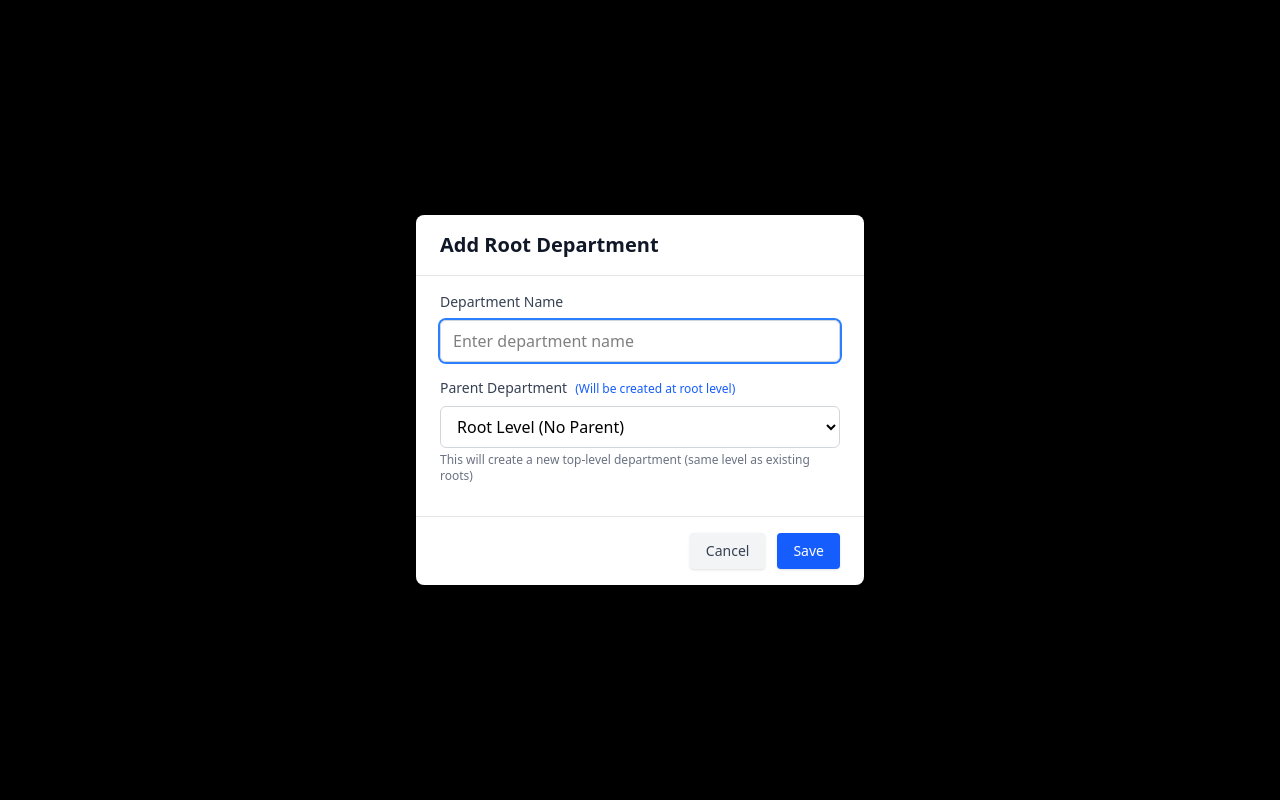
Test: DepartmentManagementModal › interactions › should show error message on submit failure
Type "New Dept" into the field labelled "Department Name" at (640, 341), box 440,320 -> 840,362
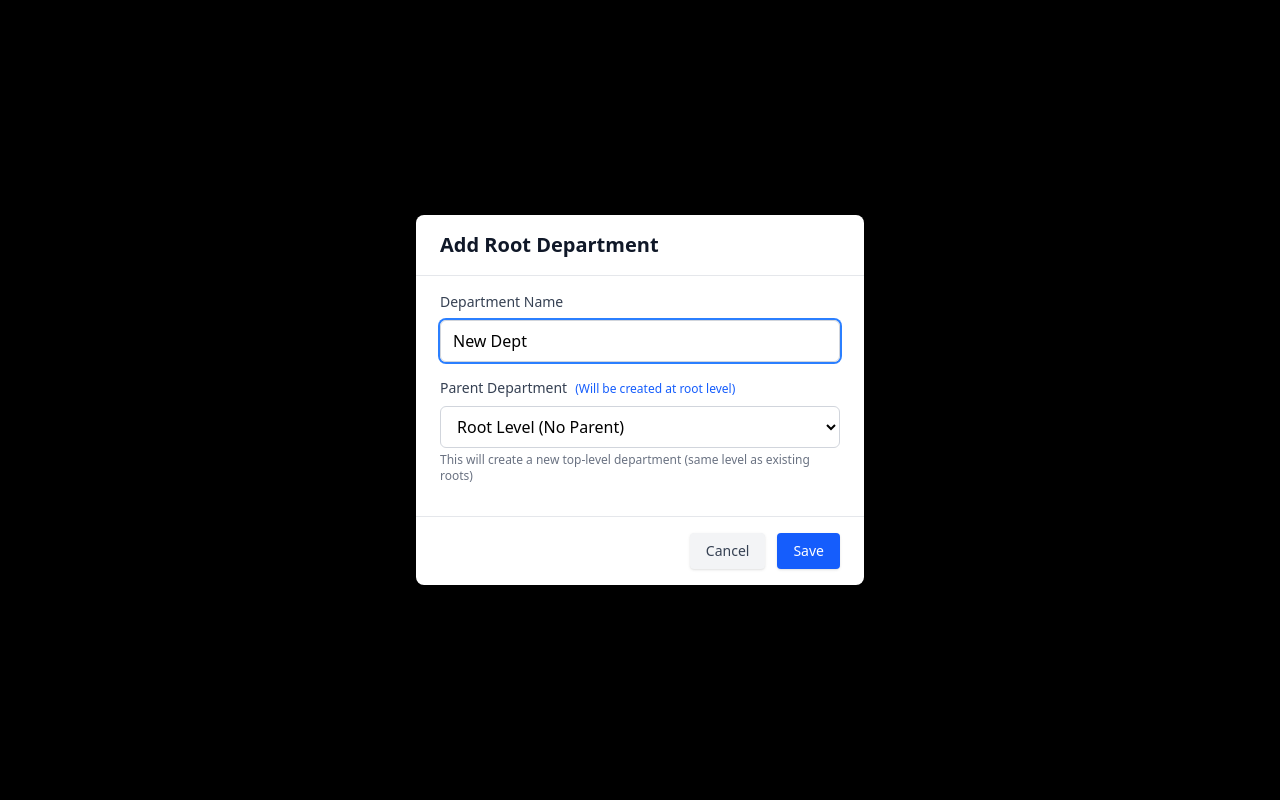
Click the button "Save" at (809, 551), box 777,533 -> 840,569
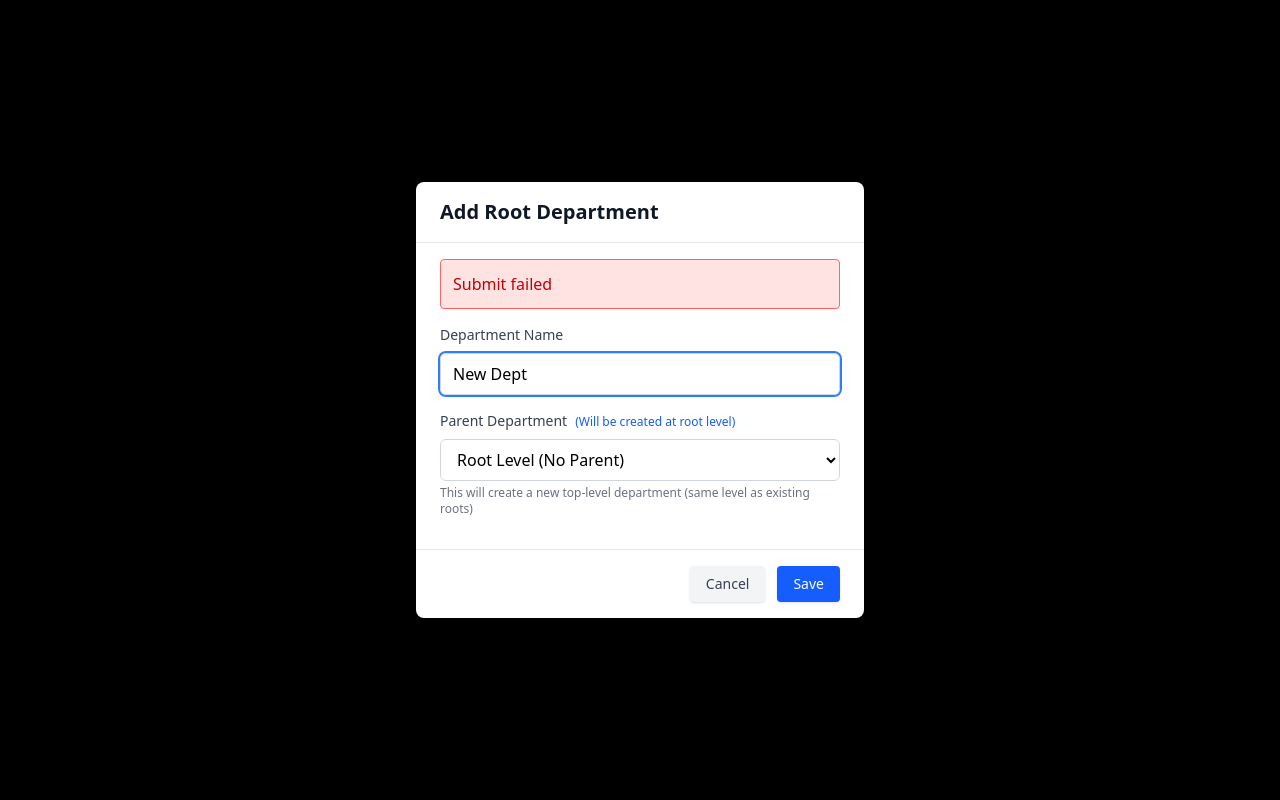
Now the text "Submit failed" is shown, box 440,259 -> 840,309
